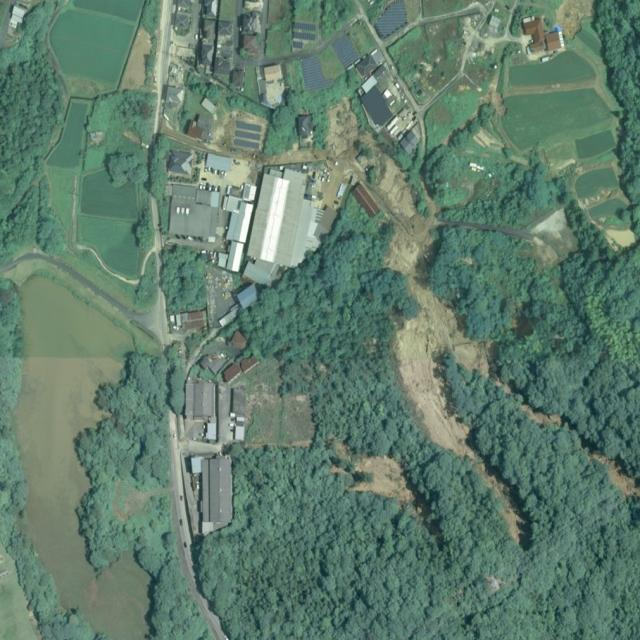landslide: (395, 276, 491, 465), (350, 457, 415, 506)
